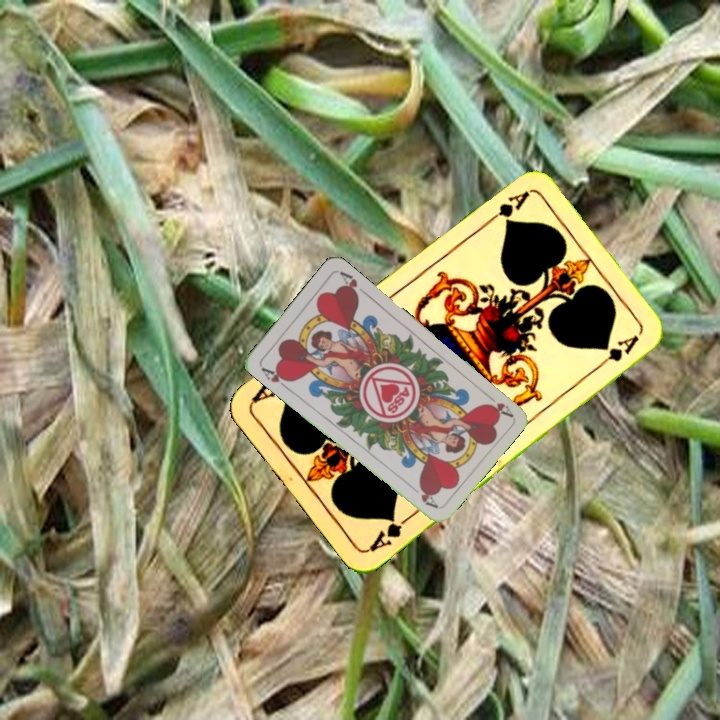GA: (365, 511, 415, 555), (480, 187, 532, 229)
HA: (480, 388, 515, 419), (257, 363, 294, 392)
